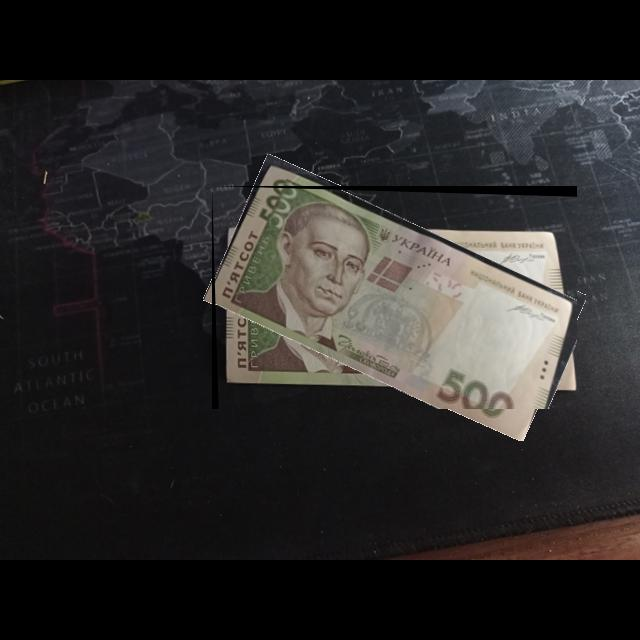500uah: (212, 186, 578, 410)
